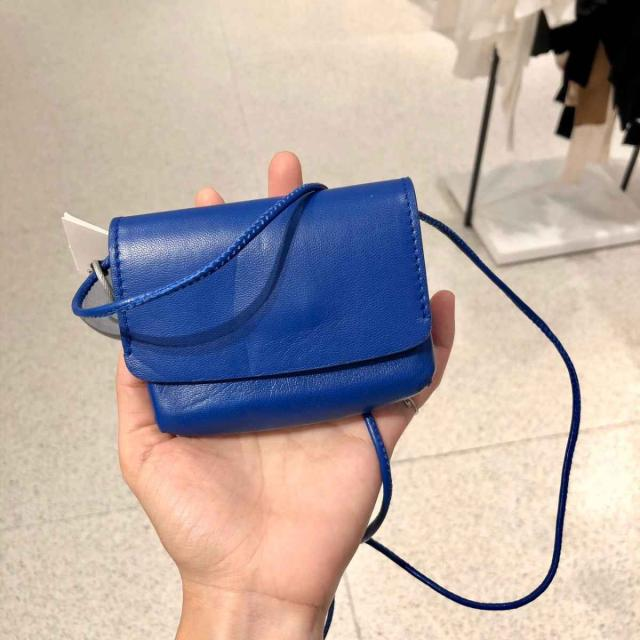handbag: (100, 183, 438, 436)
